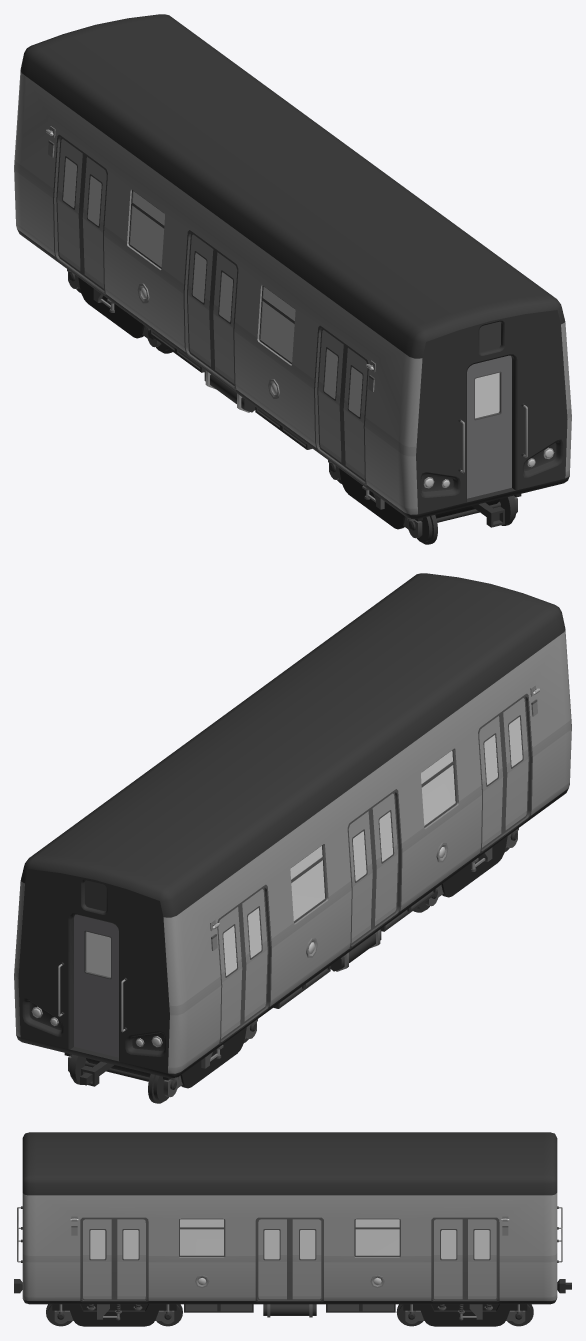
Rendered from SM_Vehilces_Metro_01.fbx.
The picture shows the model from 3 angles, top to bottom: view 1: azimuth 30°, elevation 25°; view 2: azimuth 150°, elevation 25°; view 3: azimuth 270°, elevation 25°; orthographic projection. The views are drawn at different scales.
Visible parts, largest first — view 1: SM_Vehilces_Metro_01, SM_Vehilces_Metro_01_Door_13, SM_Vehilces_Metro_01_Door_4, SM_Vehilces_Metro_01_Door_12, SM_Vehilces_Metro_01_Door_8, SM_Vehilces_Metro_01_Door_11, SM_Vehilces_Metro_01_Door_7, SM_Vehilces_Metro_01_Door_3; view 2: SM_Vehilces_Metro_01, SM_Vehilces_Metro_01_Door_14, SM_Vehilces_Metro_01_Door_11, SM_Vehilces_Metro_01_Door_3, SM_Vehilces_Metro_01_Door_7, SM_Vehilces_Metro_01_Door_4, SM_Vehilces_Metro_01_Door_8, SM_Vehilces_Metro_01_Door_12; view 3: SM_Vehilces_Metro_01, SM_Vehilces_Metro_01_Door_1, SM_Vehilces_Metro_01_Door_9, SM_Vehilces_Metro_01_Door_2, SM_Vehilces_Metro_01_Door_10, SM_Vehilces_Metro_01_Door_5, SM_Vehilces_Metro_01_Door_6.
Part boxes in pixels (left/top/right/bottom): SM_Vehilces_Metro_01: left=14, top=14, right=571, bottom=544; SM_Vehilces_Metro_01_Door_13: left=467, top=355, right=511, bottom=498; SM_Vehilces_Metro_01_Door_4: left=317, top=329, right=345, bottom=465; SM_Vehilces_Metro_01_Door_12: left=56, top=138, right=84, bottom=274; SM_Vehilces_Metro_01_Door_8: left=187, top=233, right=215, bottom=369; SM_Vehilces_Metro_01_Door_11: left=80, top=155, right=106, bottom=290; SM_Vehilces_Metro_01_Door_7: left=211, top=251, right=237, bottom=386; SM_Vehilces_Metro_01_Door_3: left=341, top=346, right=367, bottom=481; SM_Vehilces_Metro_01: left=14, top=573, right=571, bottom=1103; SM_Vehilces_Metro_01_Door_14: left=74, top=914, right=118, bottom=1057; SM_Vehilces_Metro_01_Door_11: left=240, top=888, right=268, bottom=1024; SM_Vehilces_Metro_01_Door_3: left=501, top=697, right=529, bottom=833; SM_Vehilces_Metro_01_Door_7: left=370, top=792, right=398, bottom=928; SM_Vehilces_Metro_01_Door_4: left=479, top=714, right=505, bottom=849; SM_Vehilces_Metro_01_Door_8: left=348, top=810, right=374, bottom=945; SM_Vehilces_Metro_01_Door_12: left=218, top=905, right=244, bottom=1040; SM_Vehilces_Metro_01: left=14, top=1132, right=571, bottom=1326; SM_Vehilces_Metro_01_Door_1: left=81, top=1218, right=114, bottom=1300; SM_Vehilces_Metro_01_Door_9: left=432, top=1218, right=465, bottom=1300; SM_Vehilces_Metro_01_Door_2: left=114, top=1218, right=147, bottom=1300; SM_Vehilces_Metro_01_Door_10: left=465, top=1218, right=497, bottom=1300; SM_Vehilces_Metro_01_Door_5: left=257, top=1218, right=289, bottom=1300; SM_Vehilces_Metro_01_Door_6: left=290, top=1218, right=322, bottom=1300.
Size of the model in its own units: 3.02 by 4.13 by 12.82.
